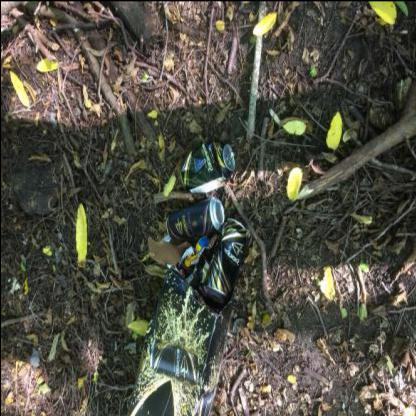Can: (203, 216, 247, 302), (178, 140, 235, 192), (165, 196, 223, 240), (185, 256, 209, 300)
Carton: (126, 236, 236, 416)
Plastic bag - wrapper: (184, 229, 218, 265), (178, 245, 196, 278)
Pop tab: (226, 149, 232, 161)
